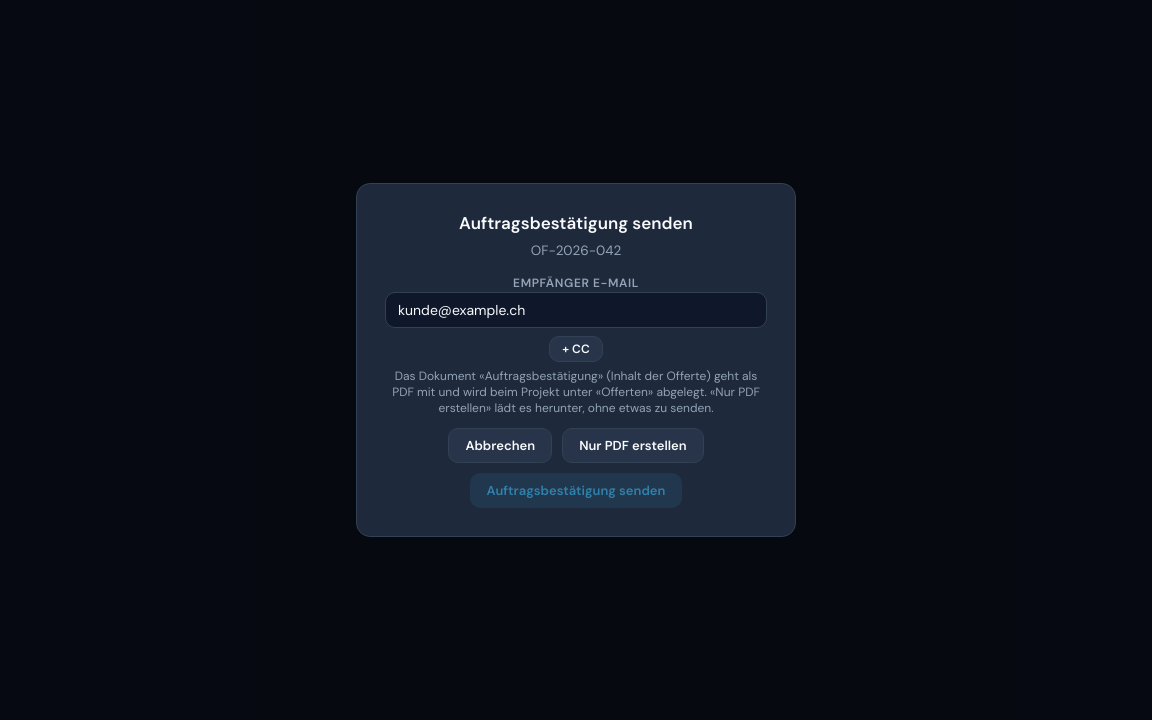
Test: SendOrderConfirmationDialog › zeigt den Backend-Fehler an und bleibt offen
Click the button "Auftragsbestätigung senden" at (576, 490), box [470,473,682,508]
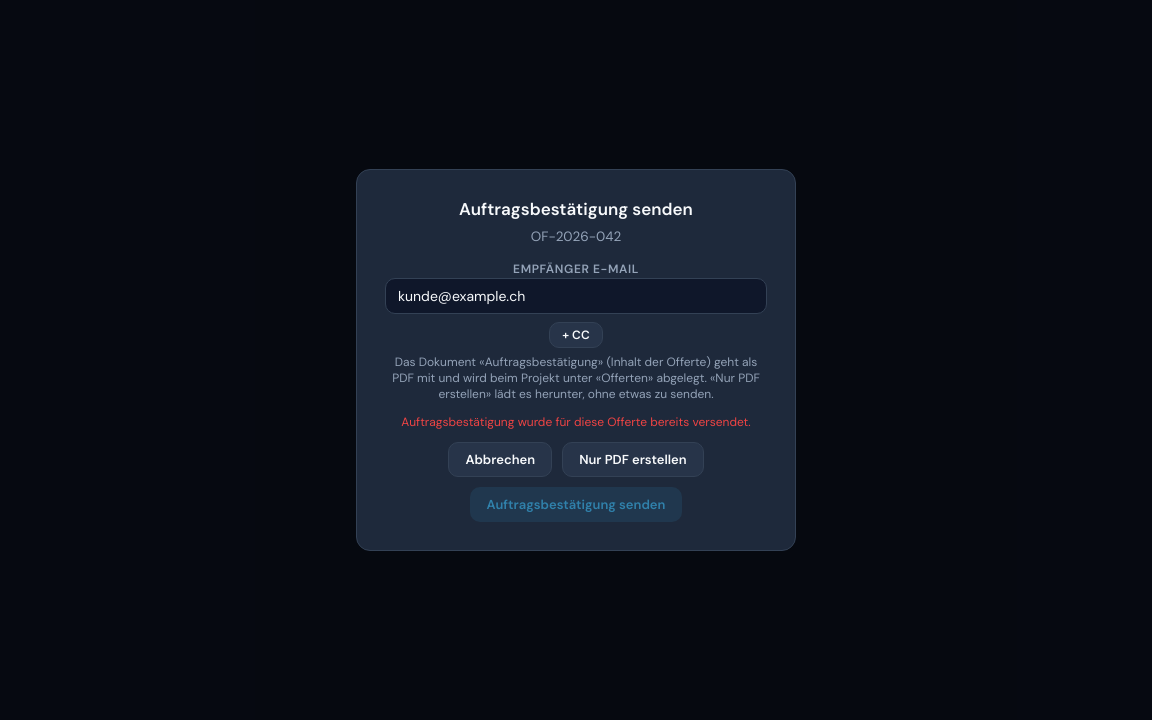
Now the text "Auftragsbestätigung wurde für diese Offerte bereits versendet." is shown, box [385,414,767,430]
